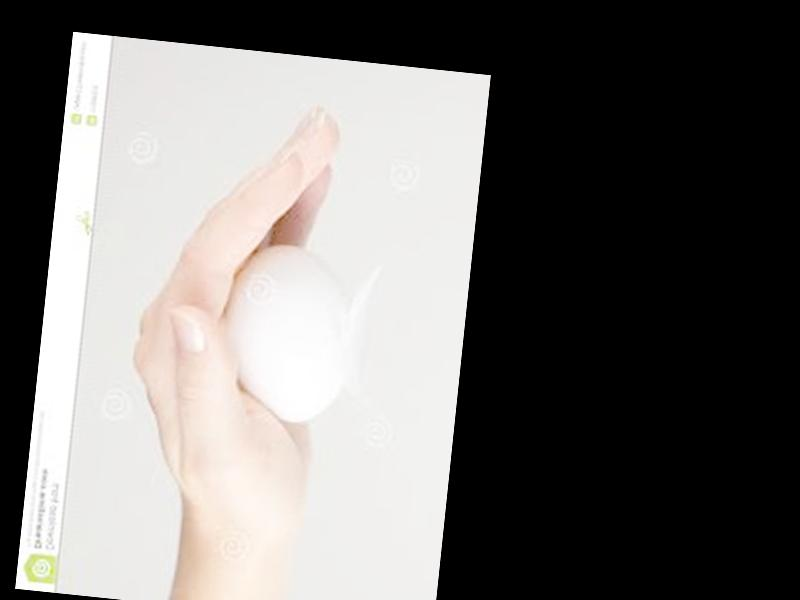Eggs: (216, 237, 356, 428)
